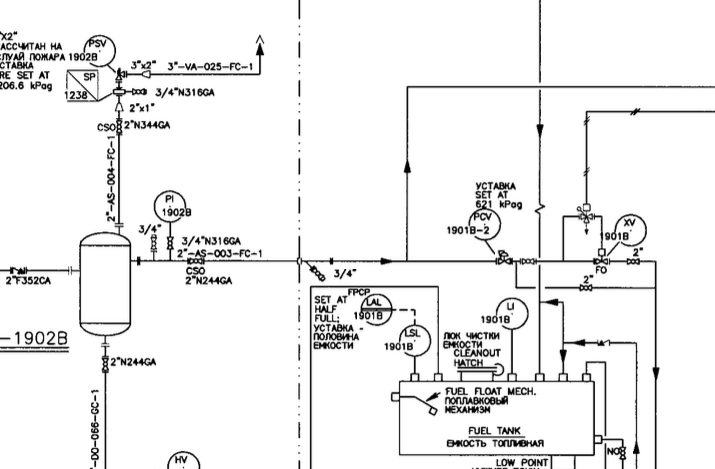Instrument-offset: (440, 208, 507, 242), (382, 320, 435, 360), (479, 295, 530, 332), (68, 31, 118, 67), (600, 211, 649, 246), (152, 189, 197, 224), (351, 295, 394, 326)
